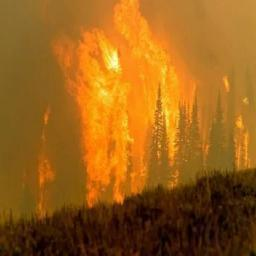Heavy smoke: (0, 0, 256, 170)
Large fire: (56, 2, 197, 208)
